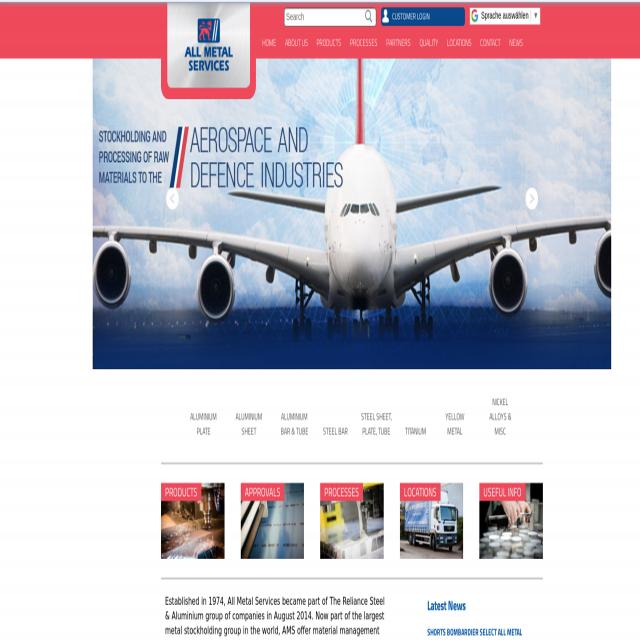button: (93, 58, 611, 370), (167, 0, 250, 85), (479, 483, 543, 560), (240, 483, 304, 559), (161, 482, 224, 559), (320, 483, 383, 559), (400, 483, 463, 559), (381, 8, 465, 25), (470, 8, 540, 25), (347, 28, 381, 52), (313, 28, 345, 52), (443, 28, 475, 52), (281, 28, 312, 52), (383, 28, 414, 52), (477, 28, 504, 52), (416, 28, 442, 52), (258, 28, 280, 52), (506, 28, 527, 52), (166, 186, 179, 210), (526, 187, 538, 210), (364, 10, 372, 25)
field: (284, 7, 376, 26)
